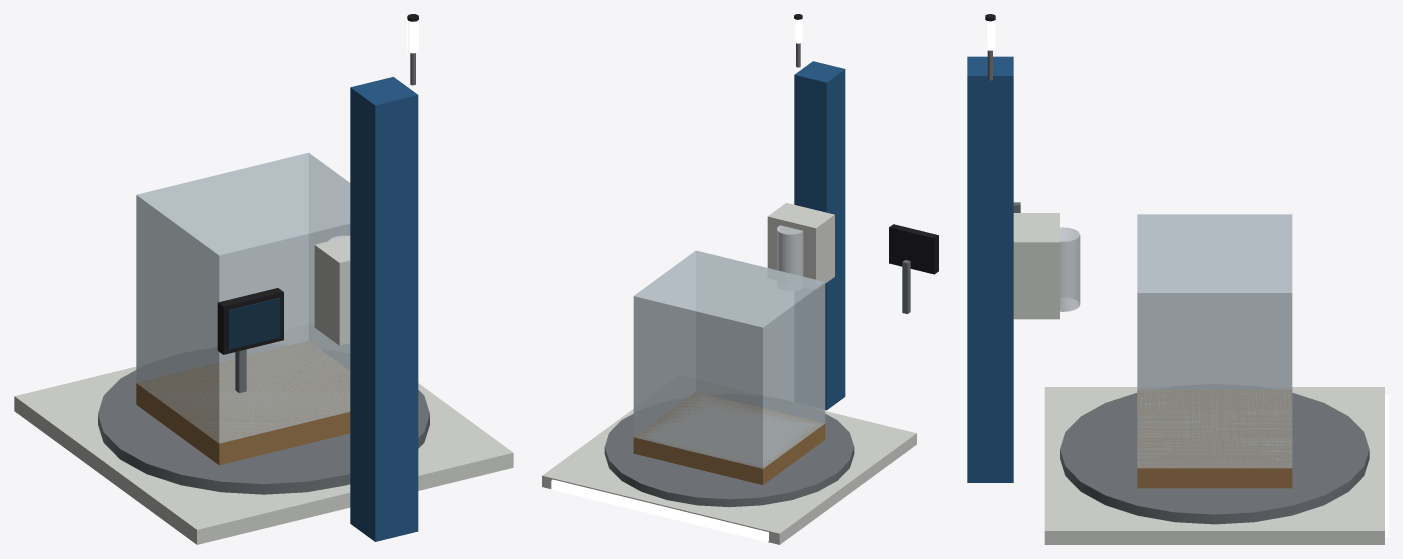
The model's file is stretchwrap.glb.
3 views of the same model, side by side, from view 1: azimuth 30°, elevation 25°; view 2: azimuth 150°, elevation 25°; view 3: azimuth 270°, elevation 25° (orthographic). The views are drawn at different scales.
Parts seen in each view (by area): view 1: spin, body; view 2: spin, body, status_band; view 3: spin, body, status_band.
Part boxes in pixels (x1,y1,x2,y2): spin: (98, 152, 429, 494); body: (14, 14, 513, 544); spin: (604, 250, 854, 507); body: (542, 14, 938, 544); status_band: (551, 479, 768, 542); spin: (1060, 214, 1369, 524); body: (967, 14, 1384, 544); status_band: (1385, 395, 1388, 536).
Bounding box in the file's own units: 2.21 × 3.35 × 2.72.
